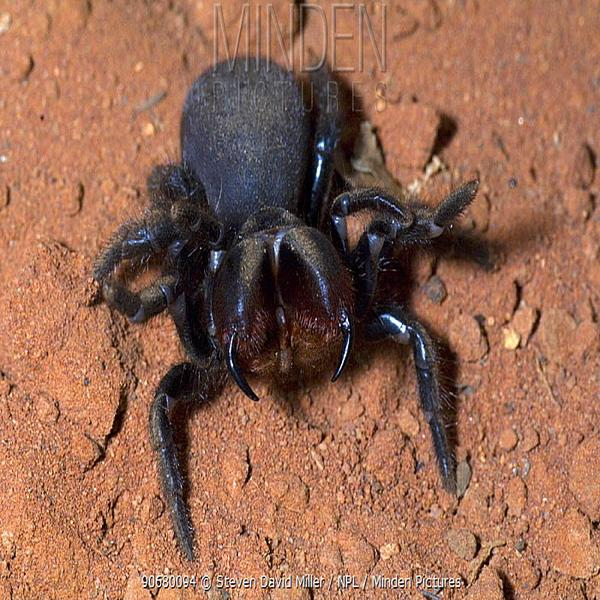Red Headed Mouse Spider: (111, 55, 463, 544)
